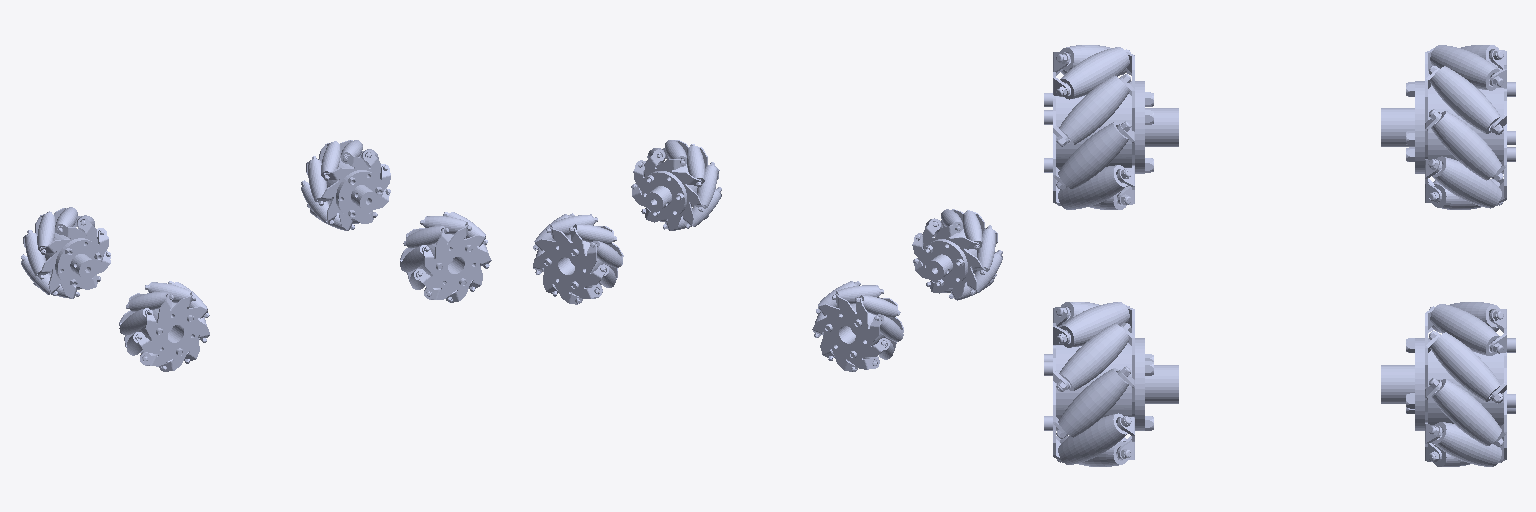
robot.urdf — chasis_urdf:
<?xml version="1.0" encoding="utf-8"?>
<!-- This URDF was automatically created by SolidWorks to URDF Exporter! Originally created by [author] ([email redacted]) 
     Commit Version: 1.6.0-4-g7f85cfe  Build Version: 1.6.7995.38578
     For more information, please see http://wiki.ros.org/sw_urdf_exporter -->
<robot
  name="chasis_urdf">
  <link
    name="base_link">
    <inertial>
      <origin
        xyz="-1.59349319575341E-05 -0.000403198248937114 0.164884480228516"
        rpy="0 0 0" />
      <mass
        value="0.408631703851002" />
      <inertia
        ixx="0.00156695773909134"
        ixy="-1.72231405828274E-08"
        ixz="-1.91947046803438E-10"
        iyy="0.00754203792430675"
        iyz="-2.17504083896834E-10"
        izz="0.00612890873923272" />
    </inertial>
    <visual>
      <origin
        xyz="0 0 0"
        rpy="0 0 0" />
      <geometry>
        <mesh
          filename="package://chasis_urdf/meshes/base_link.STL" />
      </geometry>
      <material
        name="">
        <color
          rgba="0.752941176470588 0.752941176470588 0.752941176470588 1" />
      </material>
    </visual>
    <collision>
      <origin
        xyz="0 0 0"
        rpy="0 0 0" />
      <geometry>
        <mesh
          filename="package://chasis_urdf/meshes/base_link.STL" />
      </geometry>
    </collision>
  </link>
  <gazebo reference="base_link">
        <material>Gazebo/Gold</material>
    </gazebo>
  <link
    name="front_left">
    <inertial>
      <origin
        xyz="7.1456E-05 -0.020363 2.4702E-05"
        rpy="0 0 0" />
      <mass
        value="0.023929" />
      <inertia
        ixx="4.3974E-06"
        ixy="-1.4444E-08"
        ixz="4.4573E-09"
        iyy="6.347E-06"
        iyz="-4.9729E-09"
        izz="4.386E-06" />
    </inertial>
    <visual>
      <origin
        xyz="0 0 0"
        rpy="0 0 0" />
      <geometry>
        <mesh
          filename="package://chasis_urdf/meshes/front_left.STL" />
      </geometry>
      <material
        name="">
        <color
          rgba="0.79216 0.81961 0.93333 1" />
      </material>
    </visual>
    <collision>
      <origin
        xyz="0 0 0"
        rpy="0 0 0" />
      <geometry>
        <mesh
          filename="package://chasis_urdf/meshes/front_left.STL" />
      </geometry>
    </collision>
  </link>
  <gazebo reference="front_left">
        <material>Gazebo/Black</material>
    </gazebo>
  <joint
    name="front_left"
    type="continuous">
    <origin
      xyz="0.18445 -0.0615 0.05"
      rpy="0 0 0" />
    <parent
      link="base_link" />
    <child
      link="front_left" />
    <axis
      xyz="0 -1 0" />
  </joint>
  <link
    name="front_right">
    <inertial>
      <origin
        xyz="7.4469E-05 -0.020363 1.3059E-05"
        rpy="0 0 0" />
      <mass
        value="0.023929" />
      <inertia
        ixx="4.3985E-06"
        ixy="-1.5049E-08"
        ixz="2.4507E-09"
        iyy="6.347E-06"
        iyz="-2.6199E-09"
        izz="4.3849E-06" />
    </inertial>
    <visual>
      <origin
        xyz="0 0 0"
        rpy="0 0 0" />
      <geometry>
        <mesh
          filename="package://chasis_urdf/meshes/front_right.STL" />
      </geometry>
      <material
        name="">
        <color
          rgba="0.79216 0.81961 0.93333 1" />
      </material>
    </visual>
    <collision>
      <origin
        xyz="0 0 0"
        rpy="0 0 0" />
      <geometry>
        <mesh
          filename="package://chasis_urdf/meshes/front_right.STL" />
      </geometry>
    </collision>
  </link>
  <gazebo reference="front_right">
        <material>Gazebo/Black</material>
    </gazebo>
  <joint
    name="front_right"
    type="continuous">
    <origin
      xyz="-0.18445 -0.0615 0.05"
      rpy="0 0 0" />
    <parent
      link="base_link" />
    <child
      link="front_right" />
    <axis
      xyz="0 -1 0" />
  </joint>
  <link
    name="back_left">
    <inertial>
      <origin
        xyz="6.5483E-05 0.020363 -3.7823E-05"
        rpy="0 0 0" />
      <mass
        value="0.023929" />
      <inertia
        ixx="4.3953E-06"
        ixy="1.3227E-08"
        ixz="-6.3062E-09"
        iyy="6.3471E-06"
        iyz="-7.6362E-09"
        izz="4.3881E-06" />
    </inertial>
    <visual>
      <origin
        xyz="0 0 0"
        rpy="0 0 0" />
      <geometry>
        <mesh
          filename="package://chasis_urdf/meshes/back_left.STL" />
      </geometry>
      <material
        name="">
        <color
          rgba="0.79216 0.81961 0.93333 1" />
      </material>
    </visual>
    <collision>
      <origin
        xyz="0 0 0"
        rpy="0 0 0" />
      <geometry>
        <mesh
          filename="package://chasis_urdf/meshes/back_left.STL" />
      </geometry>
    </collision>
  </link>
  <gazebo reference="back_left">
        <material>Gazebo/Black</material>
    </gazebo>
  <joint
    name="back_left"
    type="continuous">
    <origin
      xyz="0.18445 0.0615 0.05"
      rpy="0 0 0" />
    <parent
      link="base_link" />
    <child
      link="back_left" />
    <axis
      xyz="0 -1 0" />
  </joint>
  <link
    name="back_right">
    <inertial>
      <origin
        xyz="7.0522E-05 0.020363 -2.7281E-05"
        rpy="0 0 0" />
      <mass
        value="0.023928" />
      <inertia
        ixx="4.3969E-06"
        ixy="1.422E-08"
        ixz="-4.803E-09"
        iyy="6.347E-06"
        iyz="-5.5648E-09"
        izz="4.3863E-06" />
    </inertial>
    <visual>
      <origin
        xyz="0 0 0"
        rpy="0 0 0" />
      <geometry>
        <mesh
          filename="package://chasis_urdf/meshes/back_right.STL" />
      </geometry>
      <material
        name="">
        <color
          rgba="0.79216 0.81961 0.93333 1" />
      </material>
    </visual>
    <collision>
      <origin
        xyz="0 0 0"
        rpy="0 0 0" />
      <geometry>
        <mesh
          filename="package://chasis_urdf/meshes/back_right.STL" />
      </geometry>
    </collision>
  </link>
  <gazebo reference="back_right">
        <material>Gazebo/Black</material>
    </gazebo>
  <joint
    name="back_right"
    type="continuous">
    <origin
      xyz="-0.18445 0.0615 0.05"
      rpy="0 0 0" />
    <parent
      link="base_link" />
    <child
      link="back_right" />
    <axis
      xyz="0 -1 0" />
  </joint>
</robot>

--- Render facts (derived) ---
The picture shows the robot from 3 angles, left to right: view 1: azimuth 30°, elevation 25°; view 2: azimuth 150°, elevation 25°; view 3: azimuth 270°, elevation 25°; orthographic projection.
Model chasis_urdf with 5 links and 4 joints (4 continuous), rooted at base_link, posed all joints at 0.
Links seen in each view (by area): view 1: front_left, front_right, back_left, back_right; view 2: back_right, back_left, front_right, front_left; view 3: back_right, front_right, front_left, back_left.
Boxes of the visible links, x1,y1,x2,y2 form: front_left: (400, 212, 491, 302); front_right: (119, 281, 209, 371); back_left: (301, 140, 390, 230); back_right: (21, 207, 110, 298); back_right: (812, 281, 903, 371); back_left: (533, 213, 623, 304); front_right: (912, 209, 1002, 300); front_left: (631, 140, 721, 230); back_right: (1381, 45, 1515, 209); front_right: (1044, 45, 1178, 209); front_left: (1044, 302, 1178, 466); back_left: (1381, 302, 1515, 466).
Bounding box of the posed robot: 0.4695 × 0.2858 × 0.1006 m (x, y, z).
4 mesh visuals loaded from 5 distinct referenced files (4 binary STL); not drawn: 1 (reference not matched to a file when rendering).